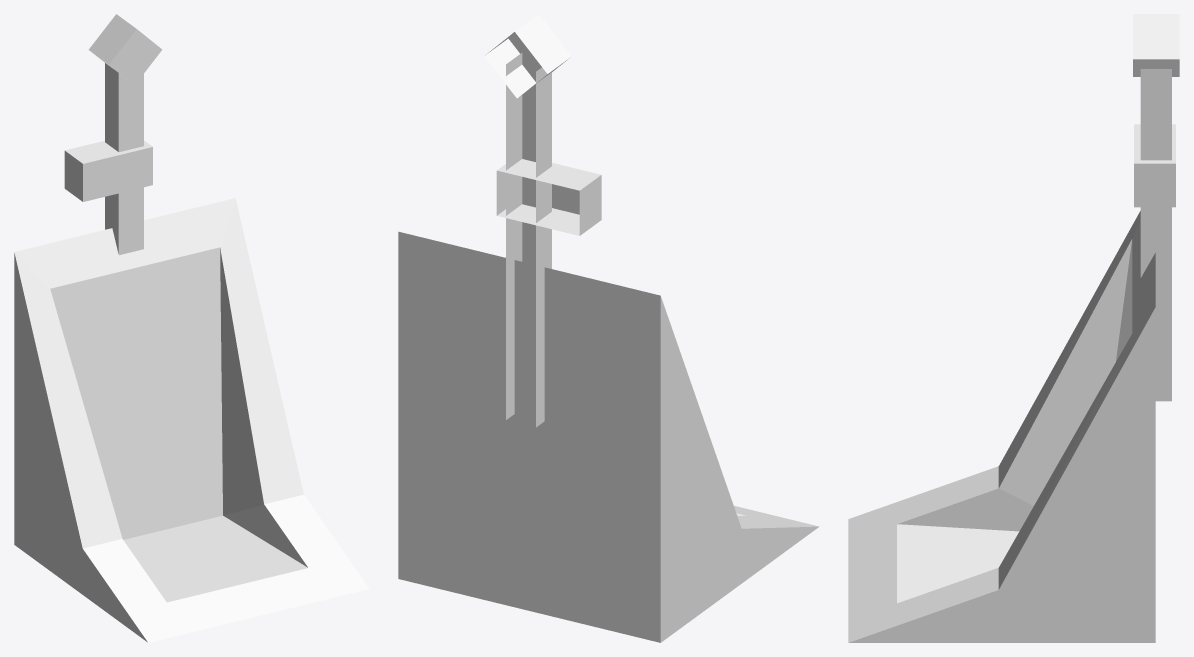
The model's file is urinal02Indian.glb.
The picture shows the model from 3 angles, left to right: view 1: azimuth 30°, elevation 25°; view 2: azimuth 150°, elevation 25°; view 3: azimuth 270°, elevation 25°; orthographic projection. The views are drawn at different scales.
Parts seen in each view (by area): view 1: urinal_Indian; view 2: urinal_Indian; view 3: urinal_Indian.
Part boxes in pixels (x1,y1,x2,y2): urinal_Indian: (14,14,369,642); urinal_Indian: (398,14,819,642); urinal_Indian: (848,14,1179,642).
Bounding box in the file's own units: 0.672 × 1.44 × 0.7608.
1 material, 1 textured.
